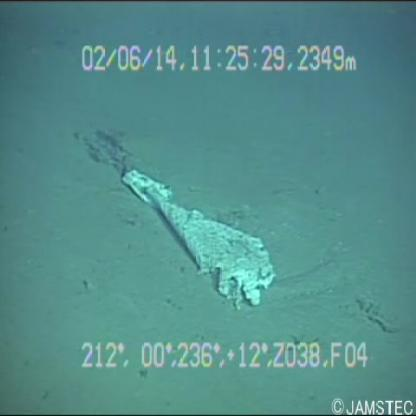Rác: (104, 141, 288, 313)
